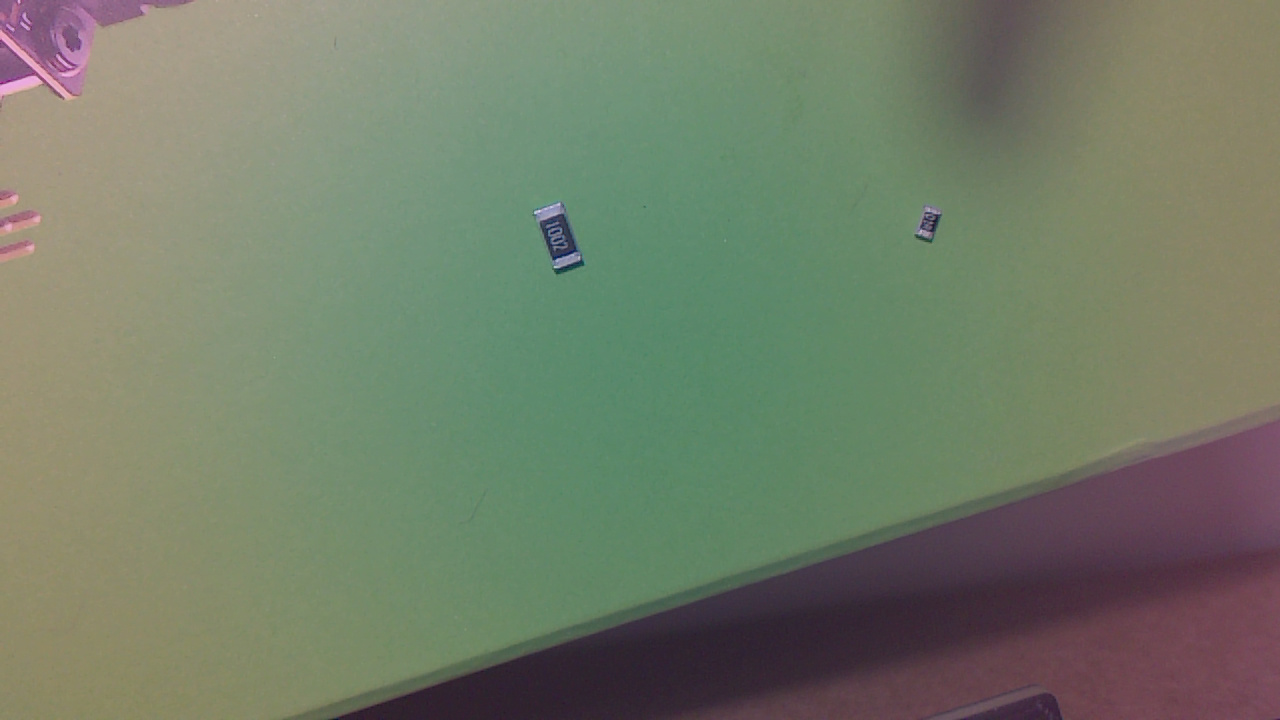Resistor: (537, 204, 592, 279), (921, 211, 947, 249)
